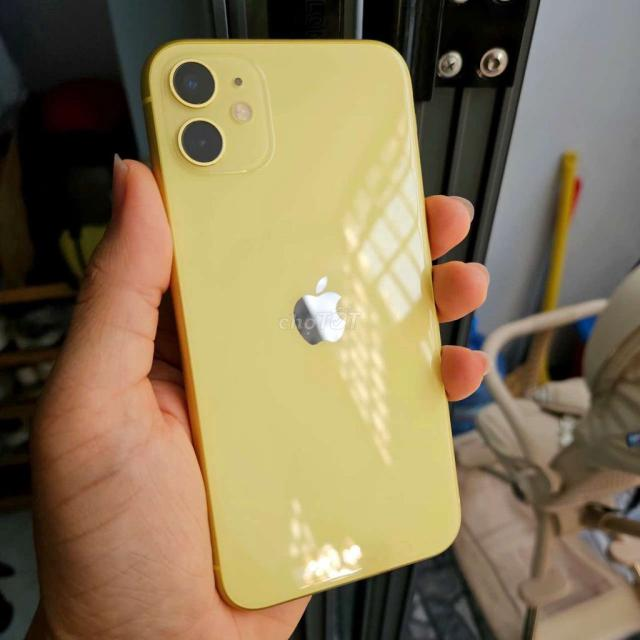gen_11: (142, 40, 459, 609)
